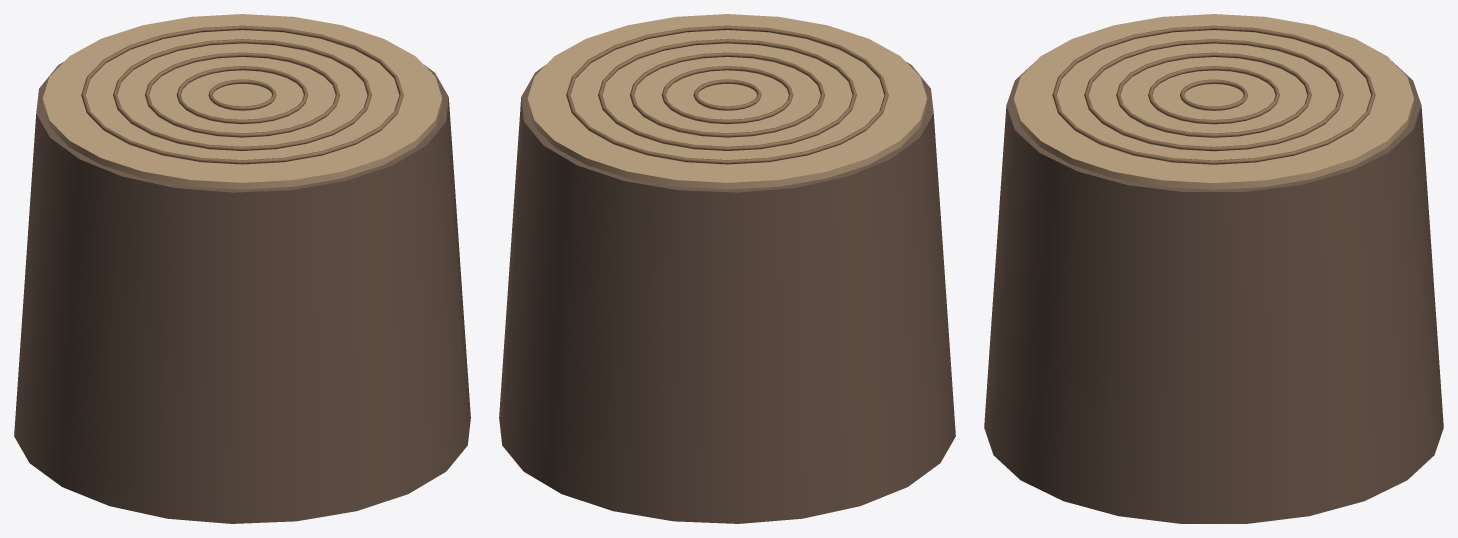
The model's file is stump01.glb.
The picture shows the model from 3 angles, left to right: view 1: azimuth 30°, elevation 25°; view 2: azimuth 150°, elevation 25°; view 3: azimuth 270°, elevation 25°; orthographic projection.
Parts seen in each view (by area): view 1: stump, cut_surface, growth_rings; view 2: stump, cut_surface, growth_rings; view 3: stump, cut_surface, growth_rings.
Boxes of the visible parts, left/top/right/bottom form: stump: left=14, top=62, right=470, bottom=523; cut_surface: left=42, top=14, right=442, bottom=189; growth_rings: left=81, top=25, right=403, bottom=164; stump: left=499, top=62, right=955, bottom=523; cut_surface: left=527, top=14, right=927, bottom=189; growth_rings: left=566, top=25, right=888, bottom=164; stump: left=984, top=61, right=1443, bottom=523; cut_surface: left=1013, top=14, right=1414, bottom=189; growth_rings: left=1052, top=25, right=1375, bottom=164.
Size of the model in its own units: 0.6137 by 0.4976 by 0.62.
